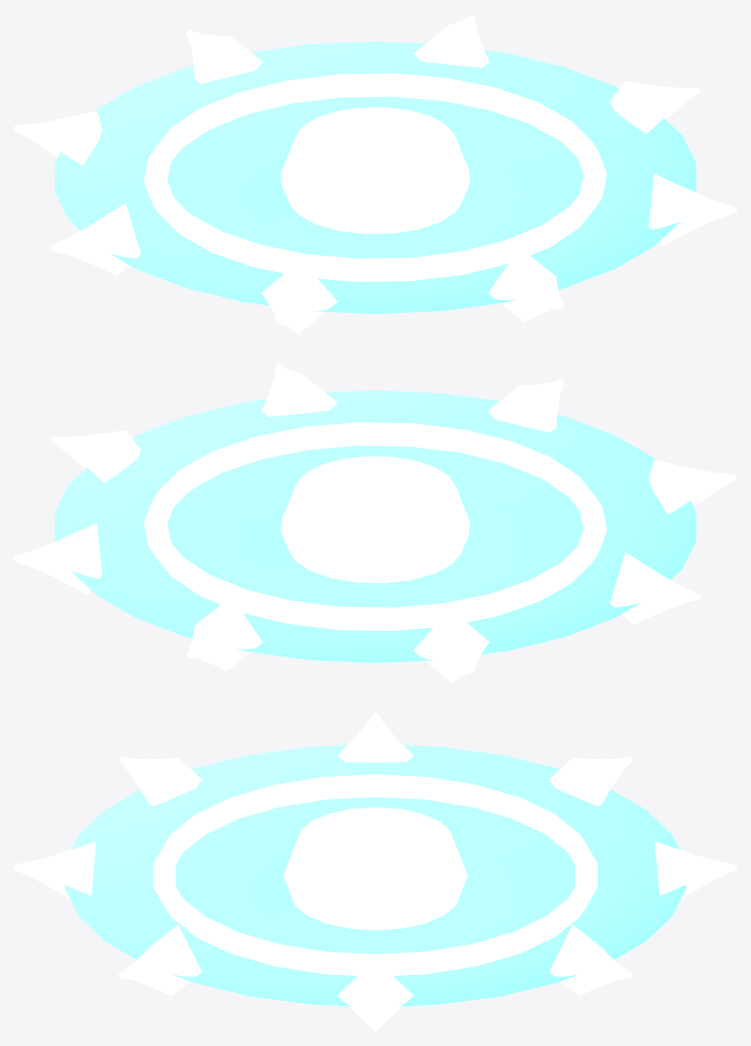
File: vfx-mesh-library-energy-disc-e85c9e62__21873.glb
3 views of the same model, one above another, from view 1: azimuth 30°, elevation 25°; view 2: azimuth 150°, elevation 25°; view 3: azimuth 270°, elevation 25° (orthographic). The views are drawn at different scales.
Visible parts, largest first — view 1: energy-disc; view 2: energy-disc; view 3: energy-disc.
Part boxes in pixels (<box>): energy-disc: <box>14,14,736,334</box>; energy-disc: <box>14,363,736,683</box>; energy-disc: <box>14,712,736,1031</box>.
Bounding box in the file's own units: 1.02 × 0.11 × 1.02.
